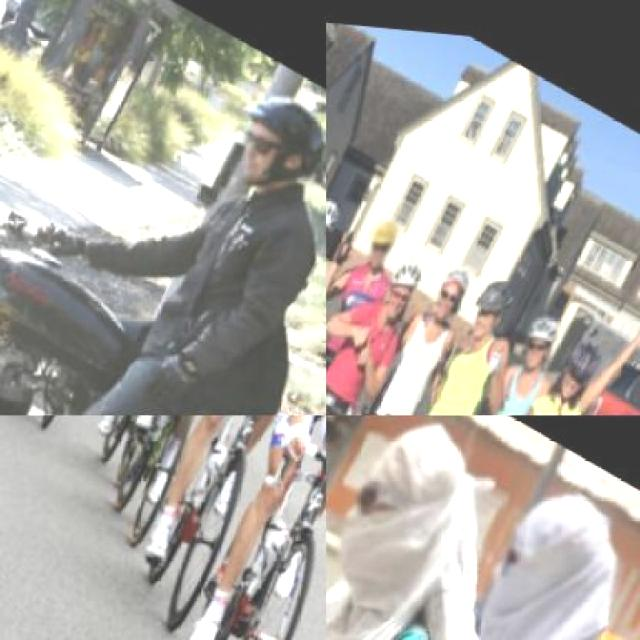With Helmet: (210, 58, 324, 214), (540, 315, 615, 414), (450, 252, 524, 346), (368, 237, 434, 326), (502, 293, 569, 379), (422, 244, 480, 322), (354, 202, 406, 267), (326, 174, 352, 263)
Without Helmet: (327, 415, 516, 637), (464, 454, 638, 638)
